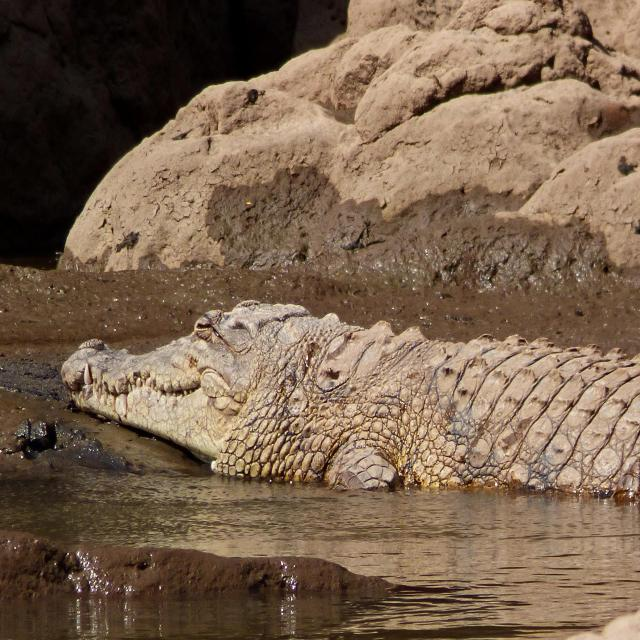crocodile: (53, 300, 640, 500)
